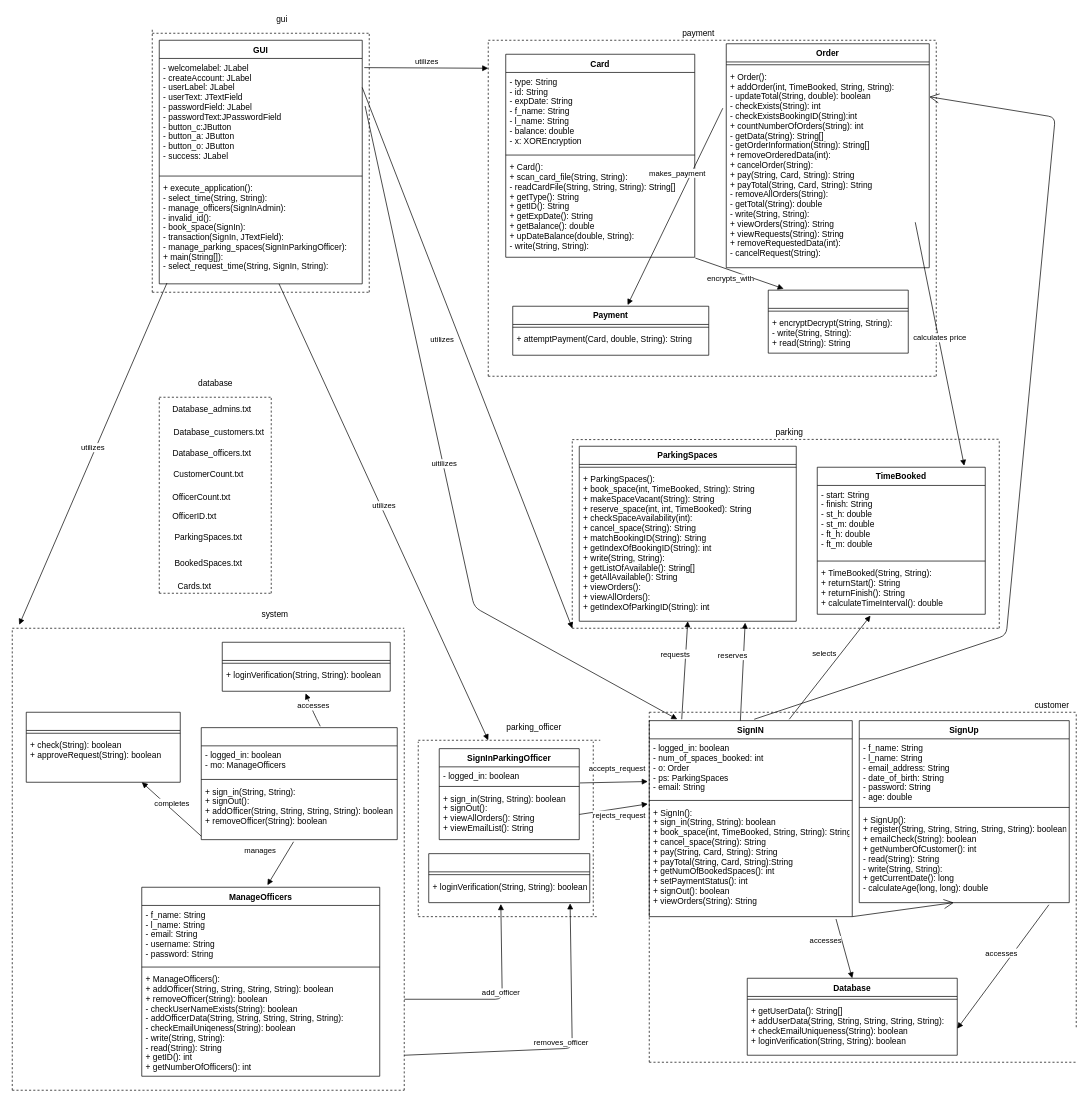
Some shapes in this 1089 by 1103 pixel diagram are drawn without their labels. Here are the shapes that lost their labels. From the top down, the box of each, then its label:
(768, 289, 908, 353): XOREncryption
(222, 642, 390, 691): DatabaseAdmins
(26, 712, 180, 782): ChangeCustomerPaidStatus
(201, 727, 397, 840): SignInAdmin
(428, 853, 590, 903): DatabaseOfficers
